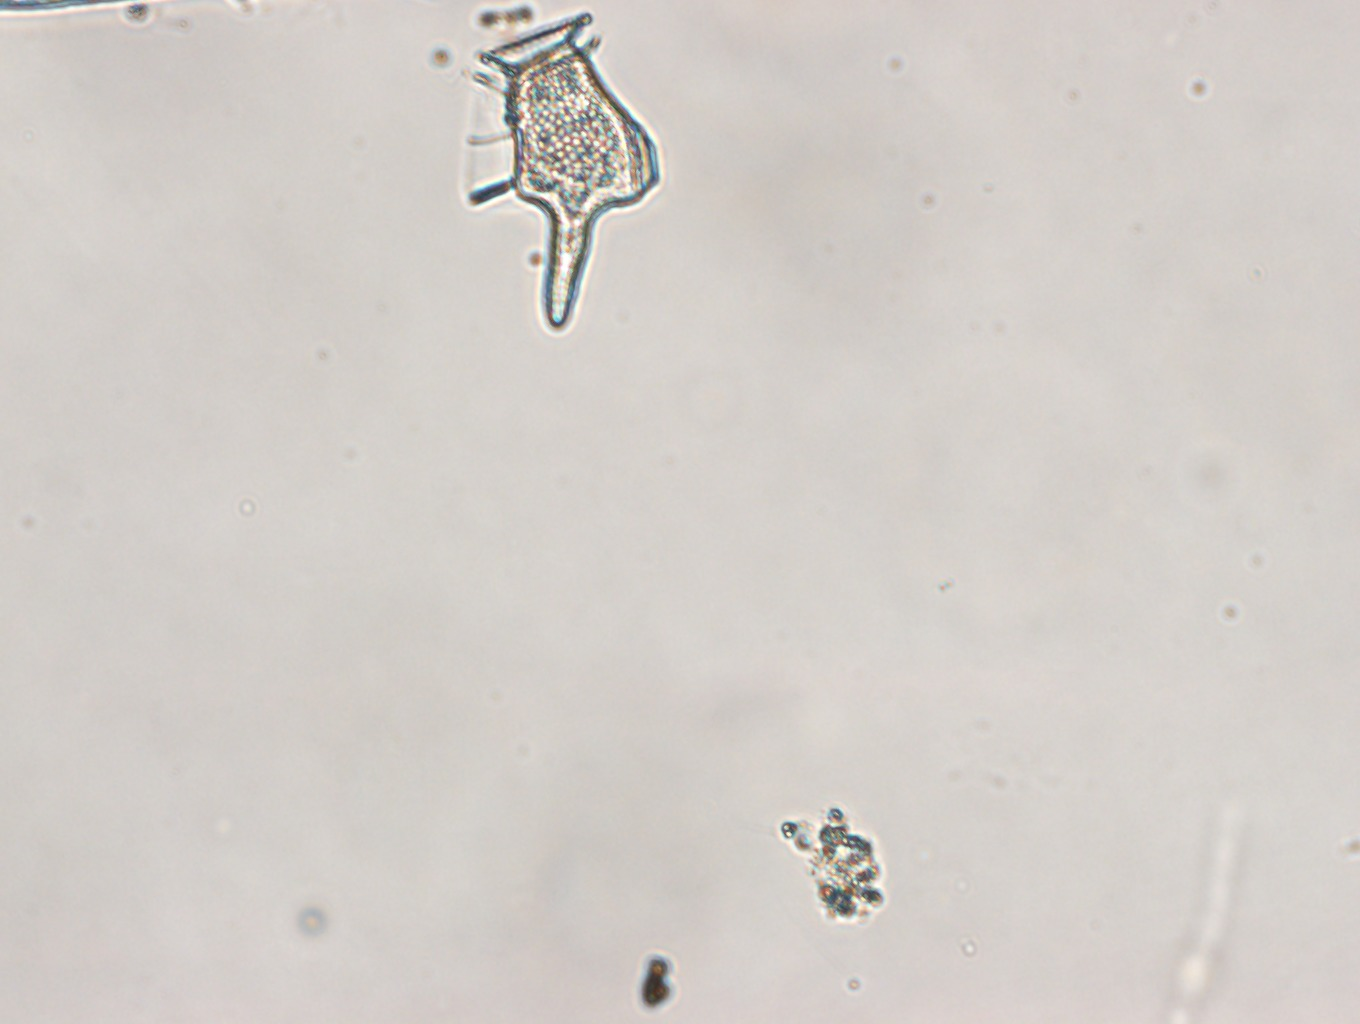dinophysis caudata: (464, 9, 664, 335)
